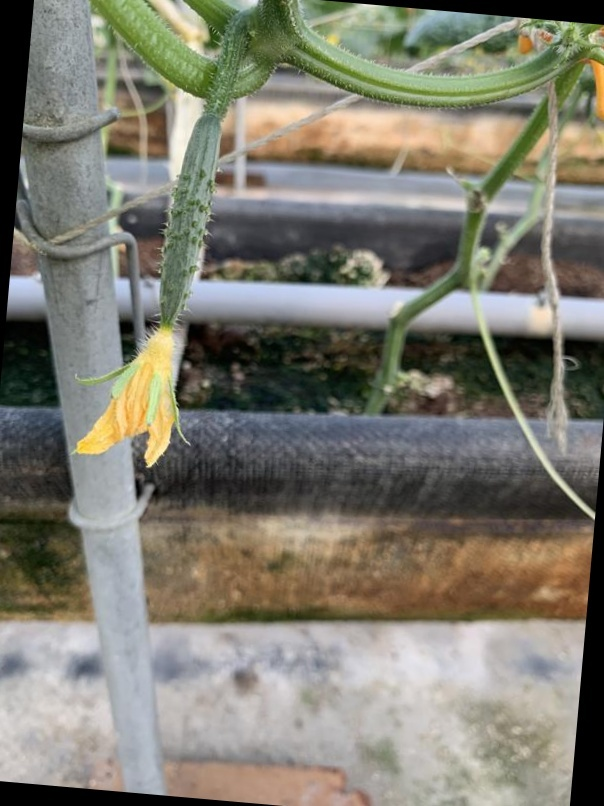bear: (76, 110, 241, 474)
